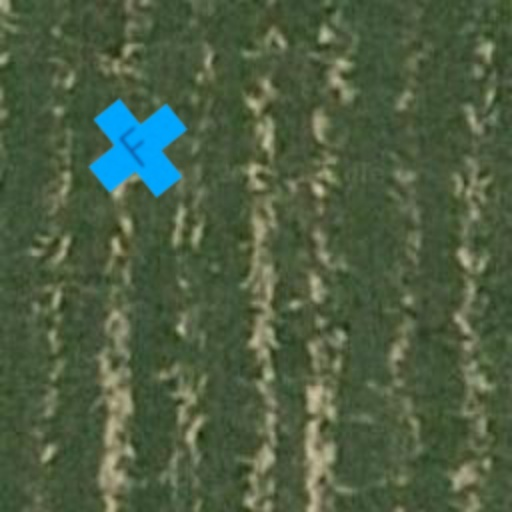cross: (66, 76, 210, 220)
